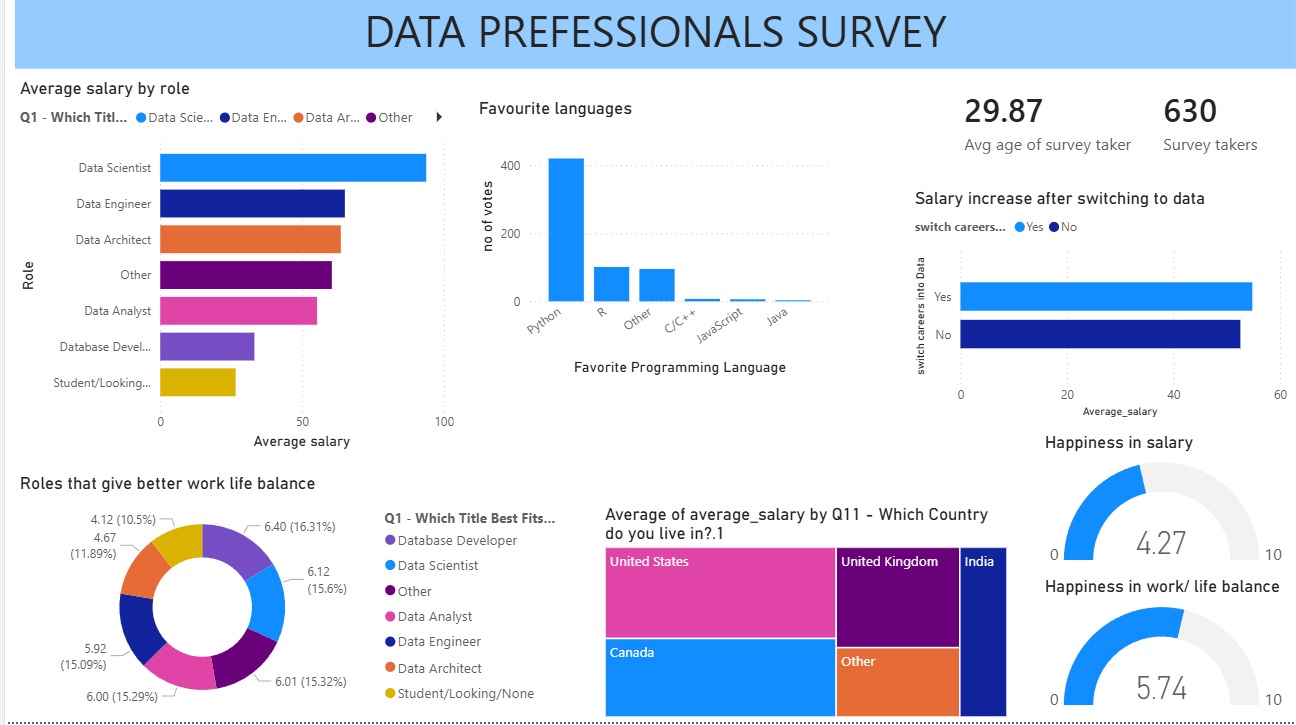

The dashboard page shown, as its layout file describes it:
{"tool":"powerbi","page":{"name":"Page 1","canvas":[1280,720],"ordinal":0},"visuals":[{"type":"textbox","box":[9.7,0,1270.3,72],"z":0},{"type":"barChart","title":"Average salary by role","fields":{"Category":["Data Professional Survey.Q1 - Which Title Best Fits your Current Role?.1"],"Y":["Avg(Data Professional Survey.average_salary)"],"Series":["Data Professional Survey.Q1 - Which Title Best Fits your Current Role?.1"]},"box":[9.9,81.3,440.2,372.8],"z":1},{"type":"cardVisual","fields":{"Data":["CountNonNull(Data Professional Survey.Unique ID)"]},"box":[1119.4,72.4,160.6,102.1],"z":2},{"type":"cardVisual","fields":{"Data":["Avg(Data Professional Survey.Q10 - Current Age)"]},"box":[922.1,72.4,225.1,102.1],"z":3},{"type":"barChart","title":"Salary increase after switching to data","fields":{"Y":["Avg(Data Professional Survey.average_salary)"],"Category":["Data Professional Survey.Q2 - Did you switch careers into Data?"],"Series":["Data Professional Survey.Q2 - Did you switch careers into Data?"]},"box":[897.3,190.4,378.7,232],"z":4},{"type":"gauge","title":"Happiness in salary","fields":{"Y":["Avg(Data Professional Survey.Q6 - How Happy are you in your Current Position with the following? (Salary))"],"MinValue":["Min(Data Professional Survey.Q6 - How Happy are you in your Current Position with the following? (Salary))1"],"MaxValue":["Max(Data Professional Survey.Q6 - How Happy are you in your Current Position with the following? (Salary))2"]},"box":[1026.2,432.3,249.9,142.8],"z":5},{"type":"gauge","title":"Happiness in work/ life balance","fields":{"Y":["Avg(Data Professional Survey.Q6 - How Happy are you in your Current Position with the following? (Work/Life Balance))"],"MinValue":["Min(Data Professional Survey.Q6 - How Happy are you in your Current Position with the following? (Work/Life Balance))"],"MaxValue":["Max(Data Professional Survey.Q6 - How Happy are you in your Current Position with the following? (Work/Life Balance))"]},"box":[1026.2,575.1,249.9,144.8],"z":6},{"type":"donutChart","title":"Roles that give better work life balance","fields":{"Category":["Data Professional Survey.Q1 - Which Title Best Fits your Current Role?.1"],"Y":["Avg(Data Professional Survey.Q6 - How Happy are you in your Current Position with the following? (Work/Life Balance))"]},"box":[9.9,472.9,541.3,246.9],"z":7},{"type":"treemap","fields":{"Group":["Data Professional Survey.Q11 - Which Country do you live in?.1"],"Values":["Avg(Data Professional Survey.average_salary)"]},"box":[589.9,503.7,408.5,216.1],"z":8},{"type":"columnChart","title":"Favourite languages","fields":{"Category":["Data Professional Survey.Q5 - Favorite Programming Language.1"],"Y":["CountNonNull(Data Professional Survey.Unique ID)"]},"box":[465,101.1,357.9,279.6],"z":9}]}

Visuals, with their boxes in screenshot pixels (x1, y1, x2, y2), scaled from the page's 1280x720 canvas onto the 1296x725 screenshot:
textbox: (x1=10, y1=0, x2=1295, y2=72)
"Average salary by role" barChart: (x1=10, y1=82, x2=456, y2=457)
cardVisual - CountNonNull(Data Professional Survey.Unique ID): (x1=1133, y1=73, x2=1295, y2=176)
cardVisual - Avg(Data Professional Survey.Q10 - Current Age): (x1=934, y1=73, x2=1162, y2=176)
"Salary increase after switching to data" barChart: (x1=909, y1=192, x2=1292, y2=425)
"Happiness in salary" gauge: (x1=1039, y1=435, x2=1292, y2=579)
"Happiness in work/ life balance" gauge: (x1=1039, y1=579, x2=1292, y2=724)
"Roles that give better work life balance" donutChart: (x1=10, y1=476, x2=558, y2=724)
treemap - Data Professional Survey.Q11 - Which Country do you live in?.1 x Avg(Data Professional Survey.average_salary): (x1=597, y1=507, x2=1011, y2=724)
"Favourite languages" columnChart: (x1=471, y1=102, x2=833, y2=383)
